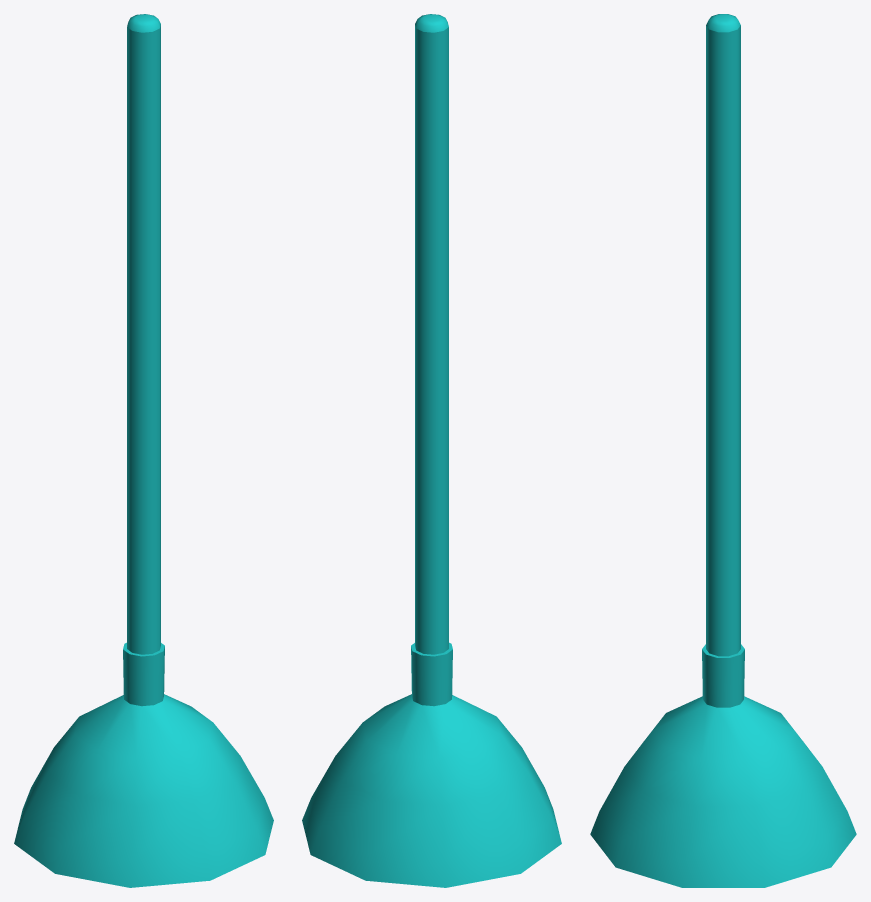
The model's file is Sopapa.fbx.
3 renders of one model, left to right at view 1: azimuth 30°, elevation 25°; view 2: azimuth 150°, elevation 25°; view 3: azimuth 270°, elevation 25°, orthographic.
Visible parts, largest first — view 1: Sopapa; view 2: Sopapa; view 3: Sopapa.
Part boxes in pixels (x1,y1,x2,y2): Sopapa: (14, 14, 273, 887); Sopapa: (302, 14, 561, 887); Sopapa: (590, 14, 856, 887).
Bounding box in the file's own units: 0.2473 × 0.8808 × 0.26.
